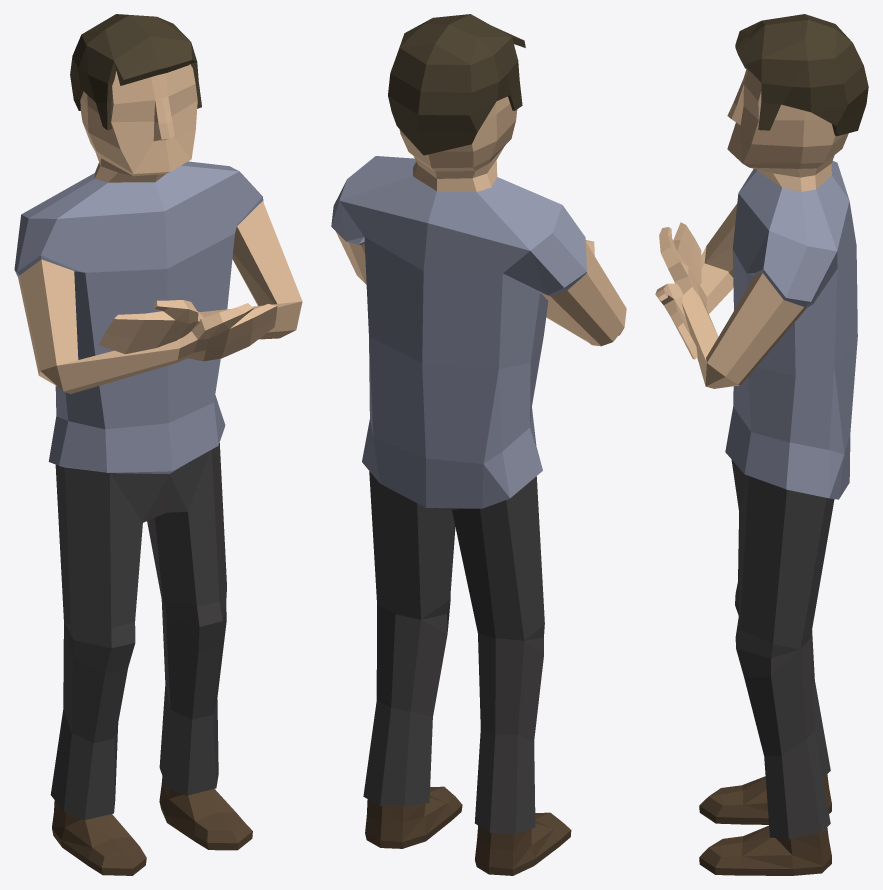
The model's file is Male_Crowd_ArmsCrossed.glb.
3 views of the same model, side by side, from view 1: azimuth 30°, elevation 25°; view 2: azimuth 150°, elevation 25°; view 3: azimuth 270°, elevation 25° (orthographic). The views are drawn at different scales.
Parts seen in each view (by area): view 1: Male_Crowd_ArmsCrossed; view 2: Male_Crowd_ArmsCrossed; view 3: Male_Crowd_ArmsCrossed.
Boxes of the visible parts, x1,y1,x2,y2 form: Male_Crowd_ArmsCrossed: (14, 14, 302, 875); Male_Crowd_ArmsCrossed: (331, 14, 626, 875); Male_Crowd_ArmsCrossed: (655, 14, 868, 875).
Bounding box in the file's own units: 0.6031 × 1.8 × 0.4245.
